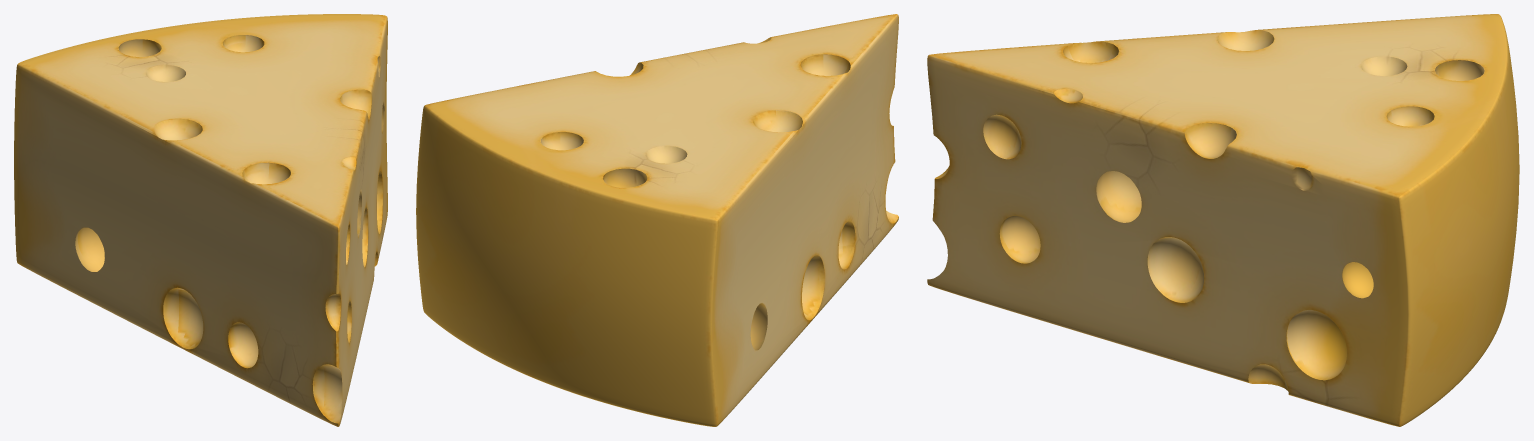
The model's file is cheese.glb.
3 views of the same model, side by side, from view 1: azimuth 30°, elevation 25°; view 2: azimuth 150°, elevation 25°; view 3: azimuth 270°, elevation 25° (orthographic). The views are drawn at different scales.
Parts seen in each view (by area): view 1: polySurface1; view 2: polySurface1; view 3: polySurface1.
Part boxes in pixels (x1,y1,x2,y2): polySurface1: [14, 14, 387, 426]; polySurface1: [416, 14, 898, 426]; polySurface1: [927, 14, 1519, 426].
Size of the model in its own units: 5.85 by 3.47 by 7.88.
Materials: 1 (1 with a texture image).
